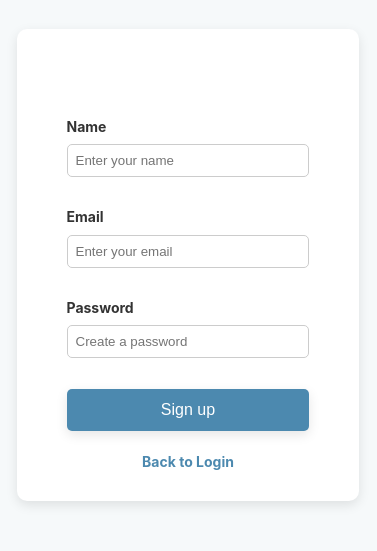
Test: RegisterPage › displays a generic error message on unexpected errors
The image size is (377, 551).
Type "Test User" into the field labelled "Name" at (188, 161), box [66,144,310,177]
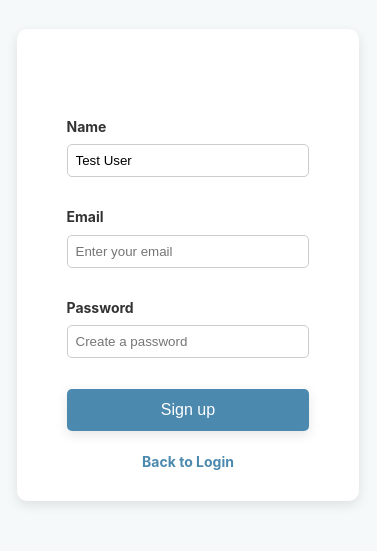
Type "testUser@example.com" into the field labelled "Email" at (188, 251), box [66,235,310,268]
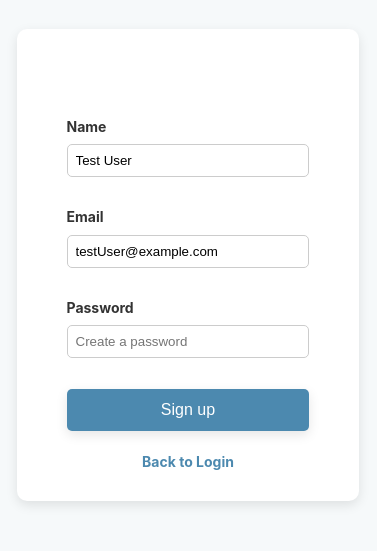
Type "password123" into the password field labelled "Password" at (188, 342), box [66,325,310,358]
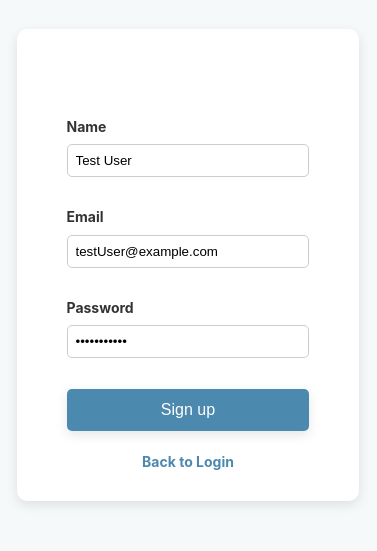
Click the button "Sign up" at (188, 410), box [66,389,310,431]
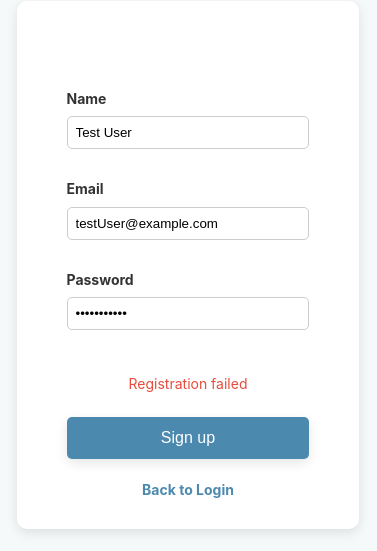
Check: the text "Registration failed" is shown, box [128,375,248,392]
